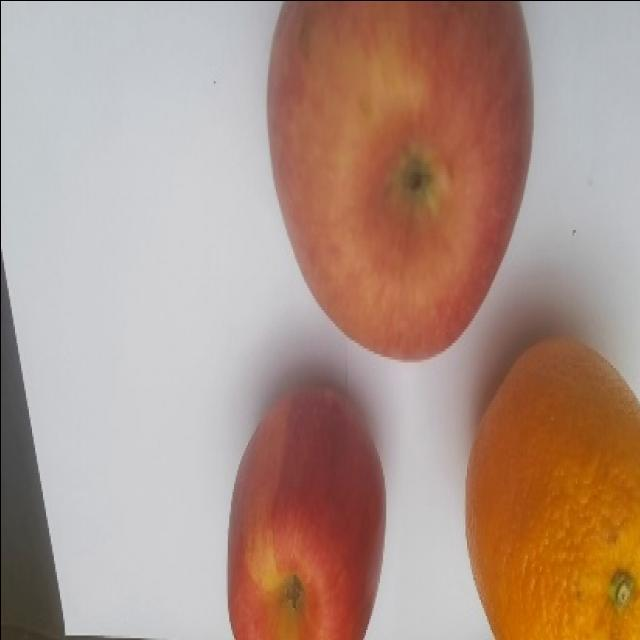Apple: (265, 0, 534, 361), (226, 382, 386, 639)
Orange: (464, 335, 639, 639)
